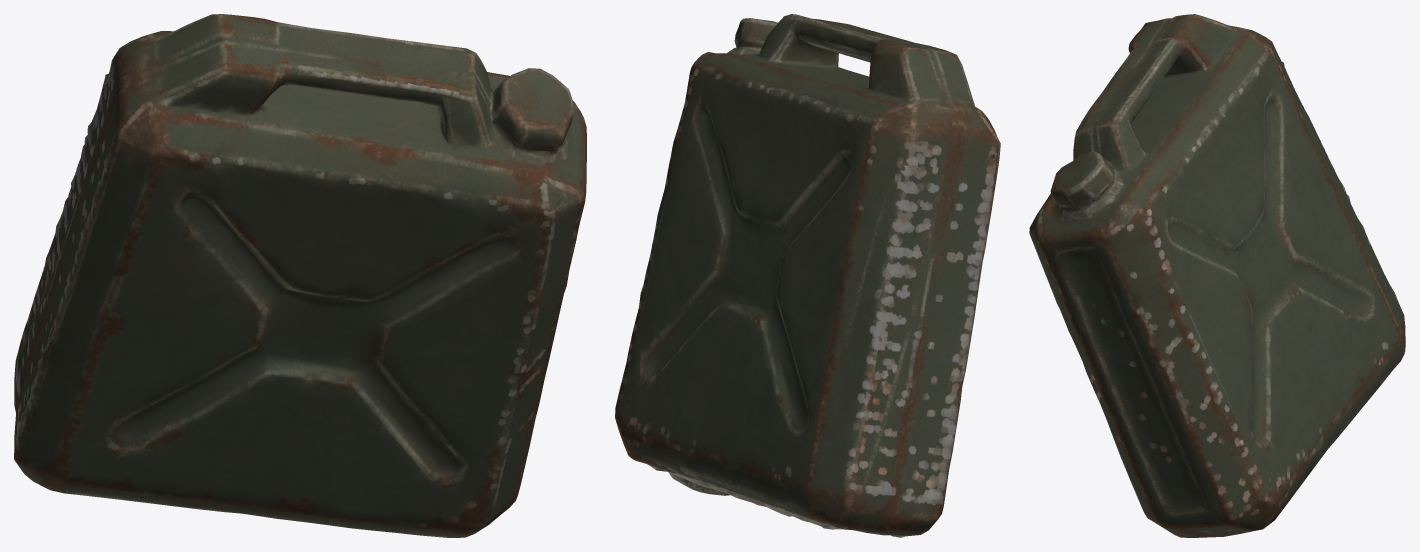
Rendered from gas_can_raw.glb.
3 views of the same model, side by side, from view 1: azimuth 30°, elevation 25°; view 2: azimuth 150°, elevation 25°; view 3: azimuth 270°, elevation 25° (orthographic). The views are drawn at different scales.
Size of the model in its own units: 0.7229 by 0.8902 by 0.6978.
Materials: 1 (1 with a texture image).
